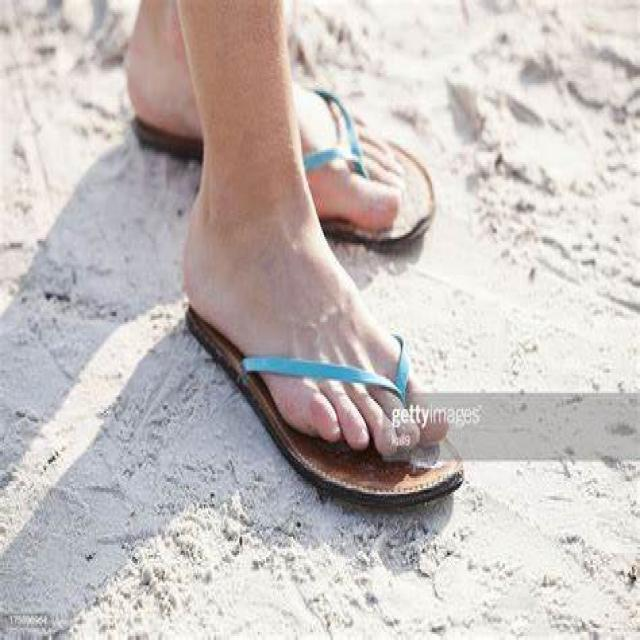No_Shoe: (142, 0, 462, 257), (180, 215, 450, 504)
